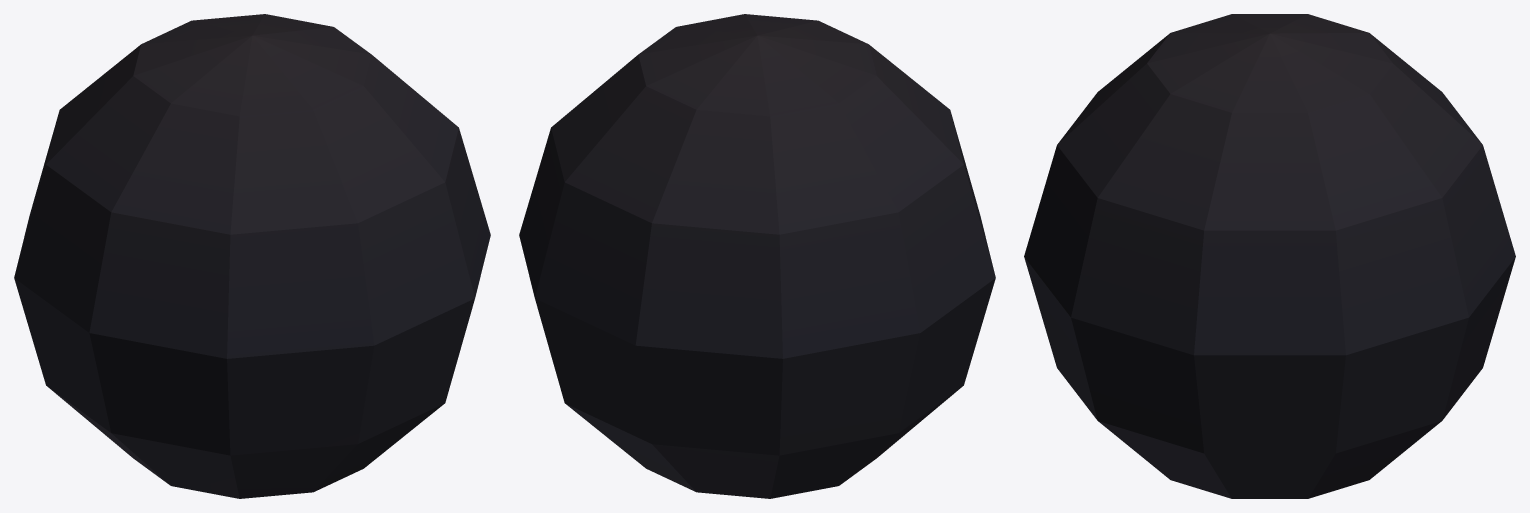
File: smokeSphere.fbx
3 renders of one model, left to right at view 1: azimuth 30°, elevation 25°; view 2: azimuth 150°, elevation 25°; view 3: azimuth 270°, elevation 25°, orthographic.
Parts seen in each view (by area): view 1: Sphere; view 2: Sphere; view 3: Sphere.
Part boxes in pixels (x1=…): Sphere: x1=14, y1=14, x2=490, y2=498; Sphere: x1=519, y1=14, x2=995, y2=498; Sphere: x1=1024, y1=14, x2=1515, y2=498.
Bounding box in the file's own units: 190 × 187 × 200.
